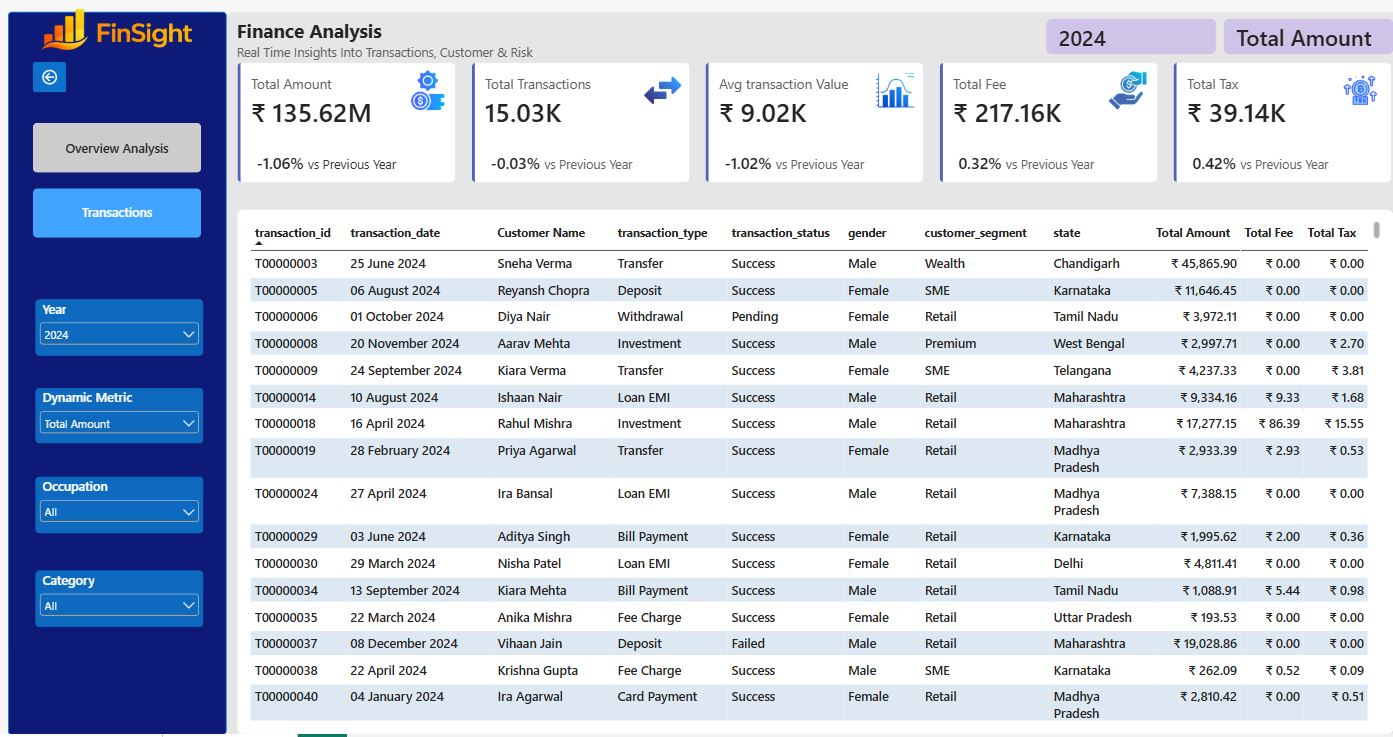

This screenshot's page, from the dashboard's own definition file:
{"tool":"powerbi","page":{"name":"Transactions","canvas":[1800,950],"ordinal":1},"visuals":[{"type":"shape","box":[13.2,29.6,278.6,921],"z":0},{"type":"shape","box":[291,29.6,1500,921],"z":1000},{"type":"image","box":[15,15,278.6,78.4],"z":2000},{"type":"shape","title":"Finance Analysis","box":[304.2,37.8,384.3,55.6],"z":3000},{"type":"cardVisual","fields":{"Data":["finance_transactions.Total Amount","finance_transactions.Total Transactions","finance_transactions.Avg transaction Value","finance_transactions.Total Fee","finance_transactions.Total Tax"]},"box":[304.2,93.7,1474.8,155],"z":4000},{"type":"image","box":[522.8,105.2,50,50],"z":6000},{"type":"image","box":[822.1,105.2,50,50],"z":7000},{"type":"image","box":[1118,105.2,50,50],"z":8000},{"type":"image","box":[1414,105.2,50,50],"z":9000},{"type":"image","box":[1709.9,105.2,50,50],"z":10000},{"type":"shape","box":[304.1,281.3,1473.3,657.3],"z":12000},{"type":"cardVisual","fields":{"Data":["finance_transactions.Selected Year","finance_transactions.Selected Dynamic Measure"]},"box":[1333.4,37.8,445.6,47.7],"z":14000},{"type":"tableEx","fields":{"Values":["finance_transactions.transaction_id","finance_transactions.transaction_date","customers.Customer Name","finance_transactions.transaction_type","finance_transactions.transaction_status","customers.gender","customers.customer_segment","customers.state","finance_transactions.Total Amount","finance_transactions.Total Fee","finance_transactions.Total Tax"]},"box":[304.1,281.3,1473.3,668.8],"z":14001},{"type":"actionButton","box":[44.1,93.2,42.5,39.2],"z":14002},{"type":"slicer","fields":{"Values":["Calender Table.Year"]},"box":[47.4,395.7,213.7,72.3],"z":14003},{"type":"slicer","fields":{"Values":["Dynamic Metric.Dynamic Metric"]},"box":[47.4,510.2,213.7,70.7],"z":14004},{"type":"slicer","fields":{"Values":["customers.occupation"]},"box":[47.4,623,213.7,72.3],"z":14005},{"type":"slicer","fields":{"Values":["finance_transactions.merchant_category"]},"box":[47.4,742.4,213.7,72.3],"z":14006},{"type":"pageNavigator","box":[44.1,171.7,214.2,147.2],"z":14007}]}

Visuals, with their boxes in screenshot pixels (x1, y1, x2, y2), scaled from the page's 1800x950 canvas onto the 1393x737 screenshot:
shape: [left=10, top=23, right=226, bottom=736]
shape: [left=225, top=23, right=1386, bottom=736]
image: [left=12, top=12, right=227, bottom=72]
"Finance Analysis" shape: [left=235, top=29, right=533, bottom=72]
cardVisual - finance_transactions.Total Amount x finance_transactions.Total Transactions: [left=235, top=73, right=1377, bottom=193]
image: [left=405, top=82, right=443, bottom=120]
image: [left=636, top=82, right=675, bottom=120]
image: [left=865, top=82, right=904, bottom=120]
image: [left=1094, top=82, right=1133, bottom=120]
image: [left=1323, top=82, right=1362, bottom=120]
shape: [left=235, top=218, right=1376, bottom=728]
cardVisual - finance_transactions.Selected Year x finance_transactions.Selected Dynamic Measure: [left=1032, top=29, right=1377, bottom=66]
tableEx - finance_transactions.transaction_id x finance_transactions.transaction_date: [left=235, top=218, right=1376, bottom=736]
actionButton: [left=34, top=72, right=67, bottom=103]
slicer - Calender Table.Year: [left=37, top=307, right=202, bottom=363]
slicer - Dynamic Metric.Dynamic Metric: [left=37, top=396, right=202, bottom=451]
slicer - customers.occupation: [left=37, top=483, right=202, bottom=539]
slicer - finance_transactions.merchant_category: [left=37, top=576, right=202, bottom=632]
pageNavigator: [left=34, top=133, right=200, bottom=247]
